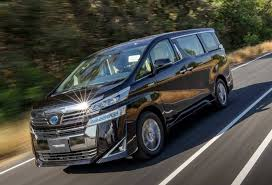Toyota: (32, 23, 217, 161)
